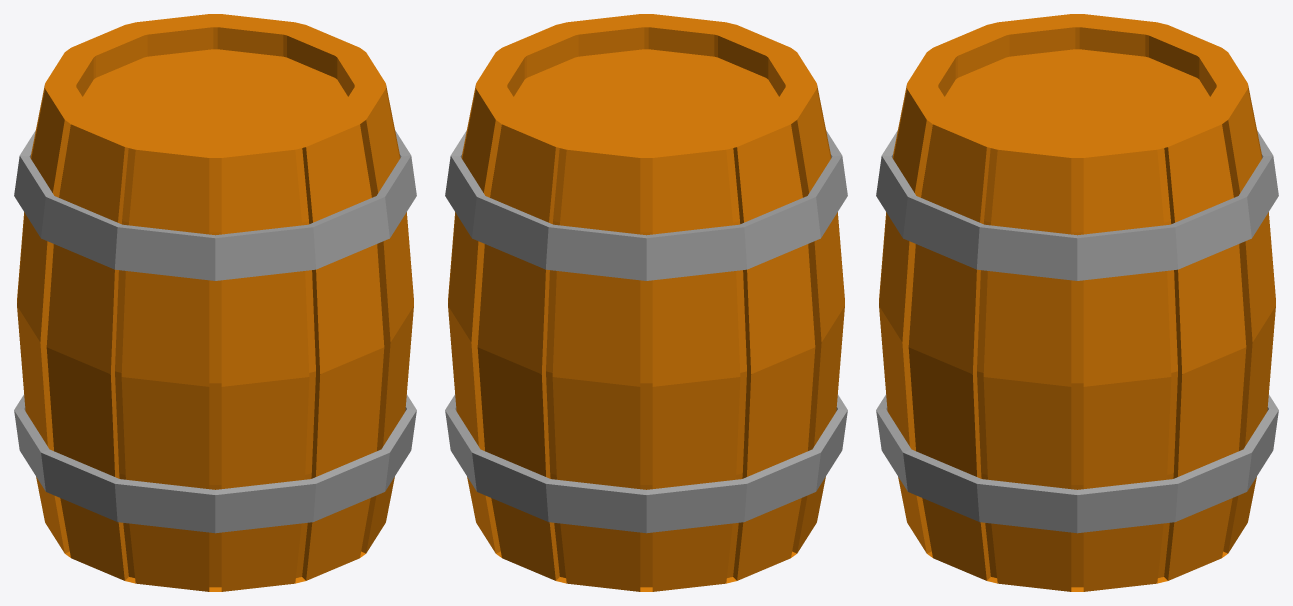
The model's file is barrel.fbx.
3 views of the same model, side by side, from view 1: azimuth 30°, elevation 25°; view 2: azimuth 150°, elevation 25°; view 3: azimuth 270°, elevation 25° (orthographic).
Parts seen in each view (by area): view 1: barrel; view 2: barrel; view 3: barrel.
Part boxes in pixels (bbox=[...]): barrel: bbox=[14, 14, 416, 591]; barrel: bbox=[445, 14, 847, 591]; barrel: bbox=[876, 14, 1278, 591].
Bounding box in the file's own units: 20.76 × 24.67 × 20.76.
